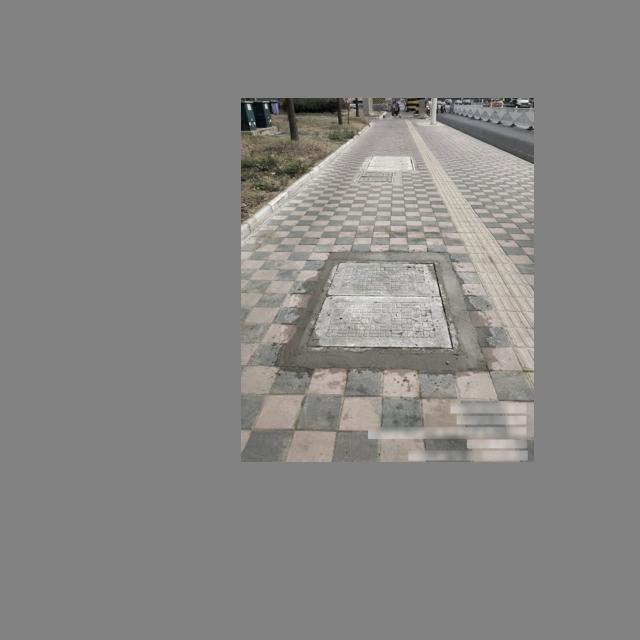good: (298, 260, 465, 353)
